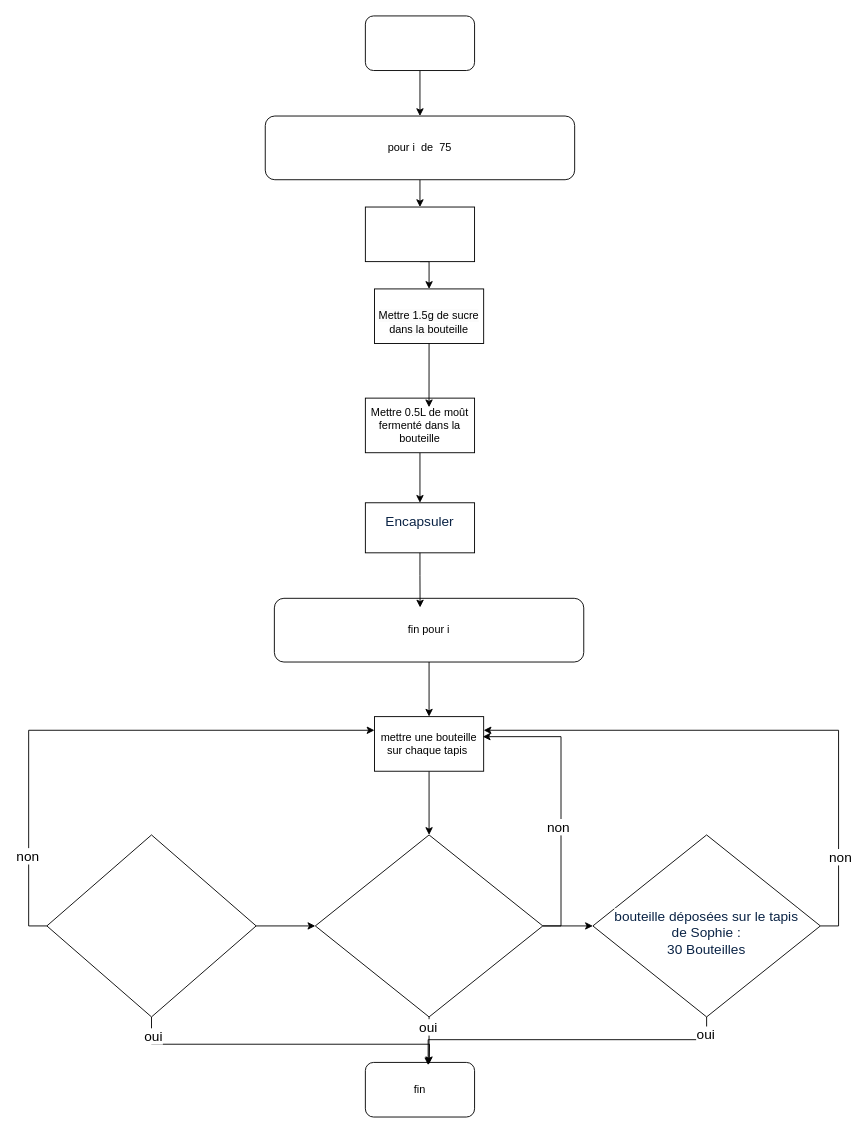
Some shapes in this 867 by 1133 pixel diagram are drawn without their labels. The centre of each missing label's shape, as x and y in pixels:
"bouteille déposées sur le tapis de Luc : 15 Bouteilles" goes at [428,925].
"bouteille déposées sur le tapis de Matthieu : 30 Bouteilles" goes at [151,925].
"debut" goes at [419,43].
"prendre un bouteille" goes at [419,234].
